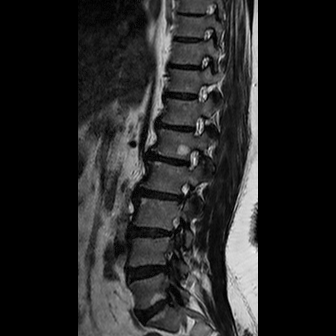RFS0: (175, 143, 207, 174)
